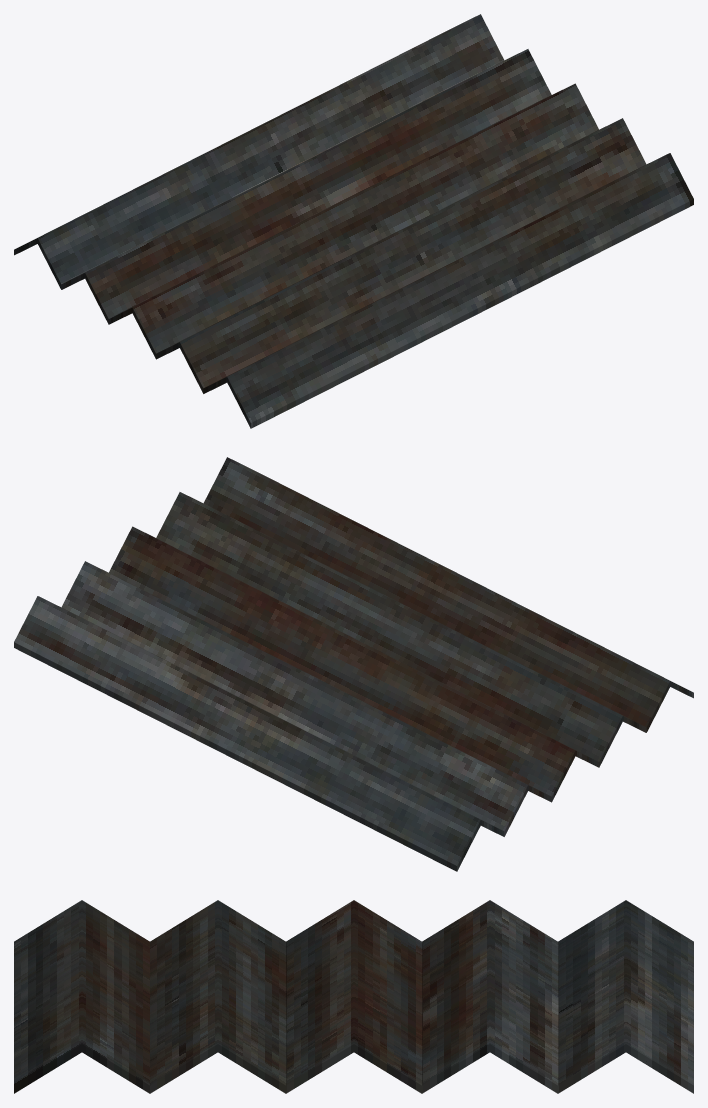
The model's file is roof_hr_3_side_2_angle_corner_1.glb.
3 views of the same model, one above another, from view 1: azimuth 30°, elevation 25°; view 2: azimuth 150°, elevation 25°; view 3: azimuth 270°, elevation 25° (orthographic). The views are drawn at different scales.
Visible parts, largest first — view 1: roof_hr_3_side_2_angle_corner_1; view 2: roof_hr_3_side_2_angle_corner_1; view 3: roof_hr_3_side_2_angle_corner_1.
Part boxes in pixels (x1,y1,x2,y2): roof_hr_3_side_2_angle_corner_1: (14,14,693,428); roof_hr_3_side_2_angle_corner_1: (14,457,693,871); roof_hr_3_side_2_angle_corner_1: (14,900,693,1093).
Bounding box in the file's own units: 0.8 × 0.26 × 0.7407.
1 material, 1 textured.
